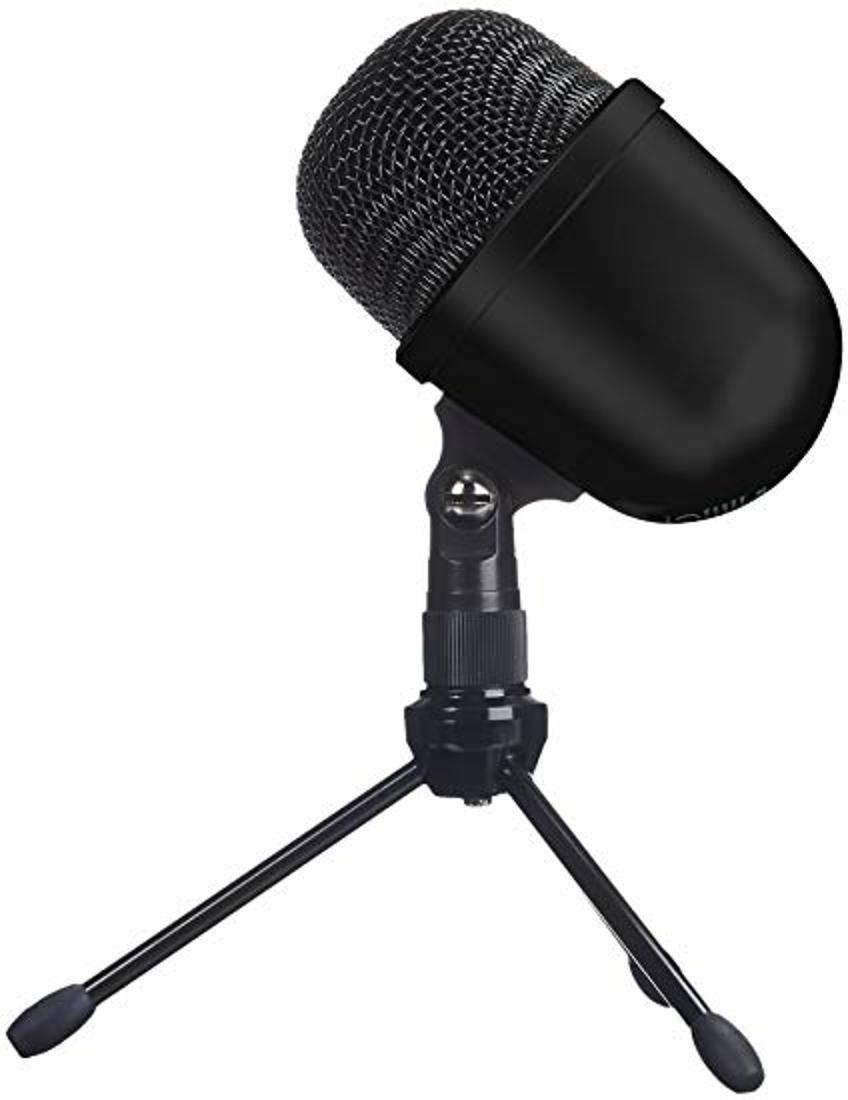Microphone: (70, 0, 848, 1091)
